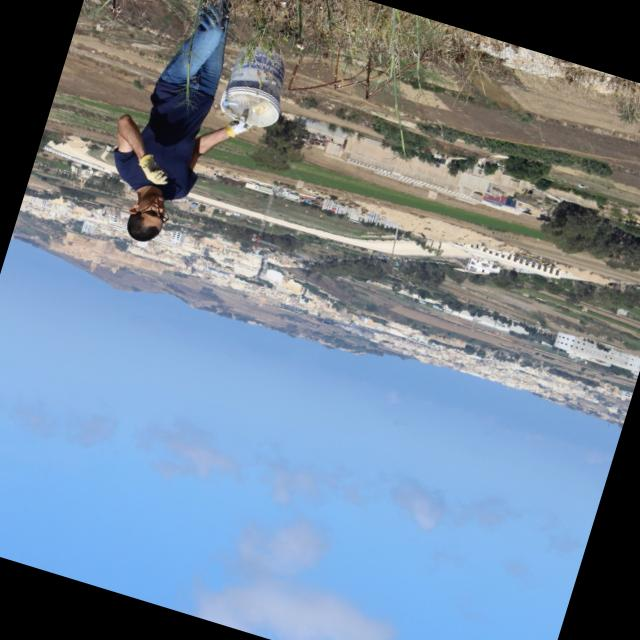Other plastic: (220, 46, 290, 129)
